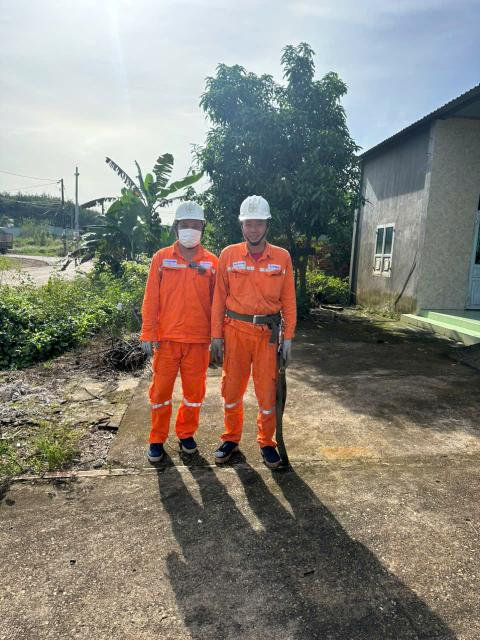gloves: (135, 333, 163, 358), (208, 333, 228, 361), (282, 338, 292, 364)
harness: (222, 303, 290, 335)
helmet: (227, 194, 278, 224), (165, 195, 210, 228)
shoes: (210, 437, 242, 466), (171, 432, 203, 457), (254, 444, 287, 465), (146, 435, 166, 462)
